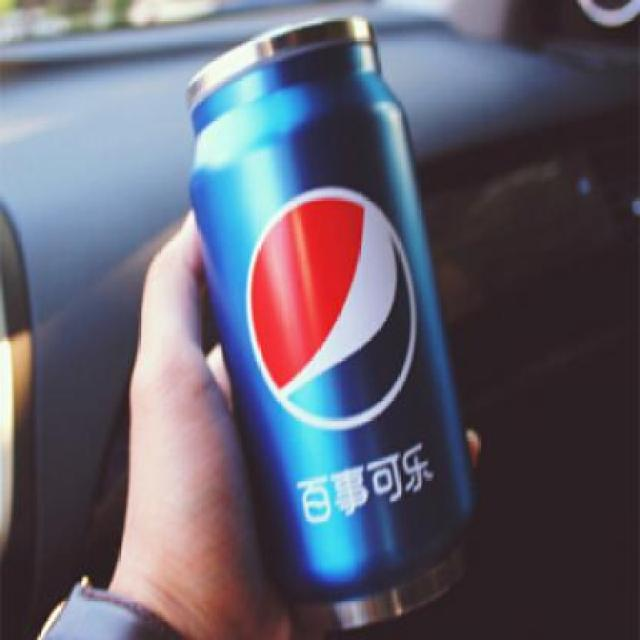Metal: (188, 17, 476, 634)
